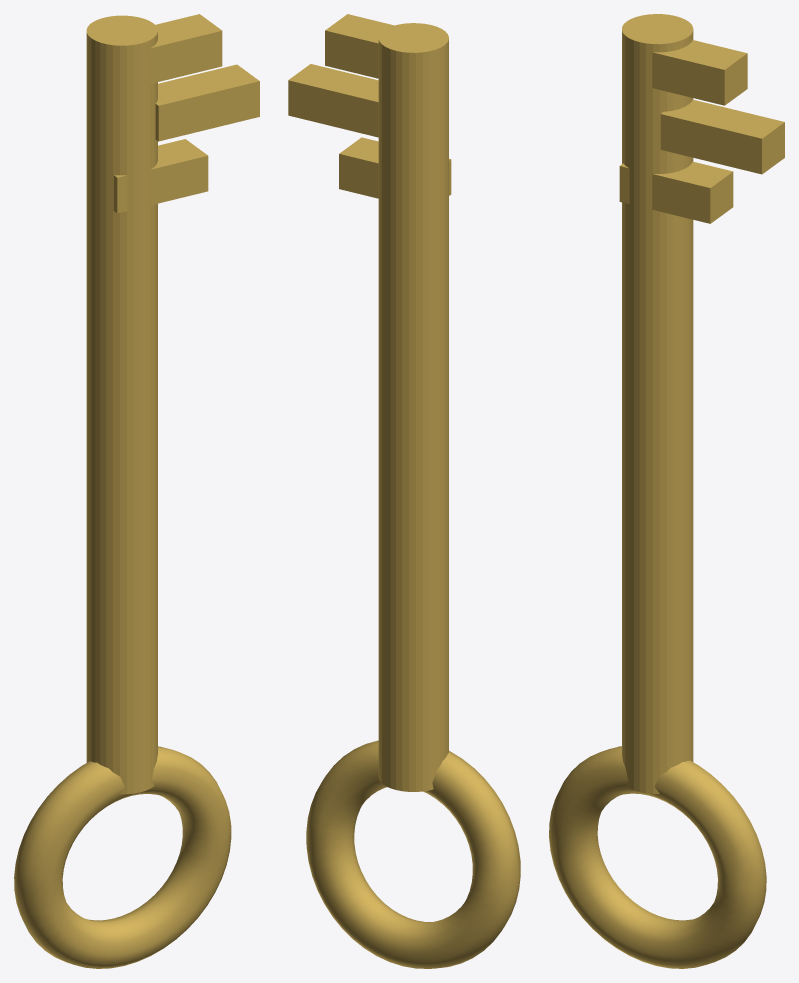
Rendered from Keyblend.fbx.
3 renders of one model, left to right at view 1: azimuth 30°, elevation 25°; view 2: azimuth 150°, elevation 25°; view 3: azimuth 330°, elevation 25°, orthographic.
Parts seen in each view (by area): view 1: Cylinder; view 2: Cylinder; view 3: Cylinder.
Boxes of the visible parts, <box> form: Cylinder: <box>14,14,259,968</box>; Cylinder: <box>288,14,520,968</box>; Cylinder: <box>549,14,784,968</box>.
Size of the model in its own units: 20.22 by 80.04 by 5.54.
